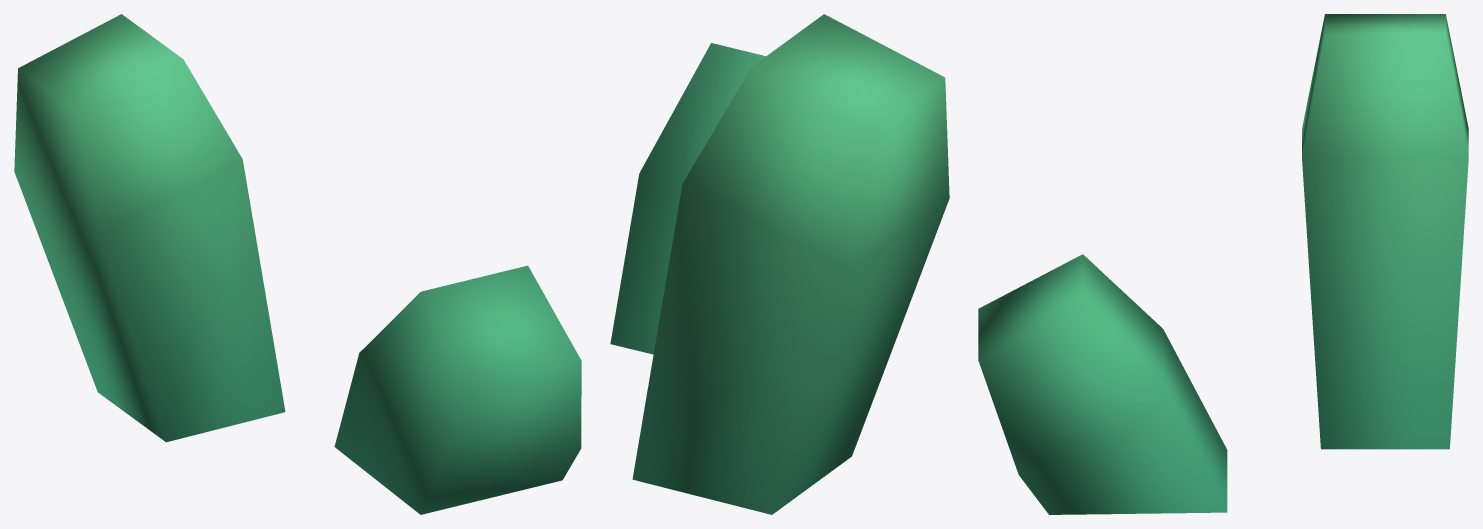
File: grass-small.glb
The picture shows the model from 3 angles, left to right: view 1: azimuth 30°, elevation 25°; view 2: azimuth 150°, elevation 25°; view 3: azimuth 270°, elevation 25°; orthographic projection. The views are drawn at different scales.
Visible parts, largest first — view 1: grass-small; view 2: grass-small; view 3: grass-small.
Part boxes in pixels (x1=…): grass-small: x1=14, y1=14, x2=581, y2=514; grass-small: x1=610, y1=14, x2=949, y2=514; grass-small: x1=978, y1=14, x2=1468, y2=514.
Bounding box in the file's own units: 0.2477 × 0.2581 × 0.3129.
Materials: 1 (1 with a texture image).
